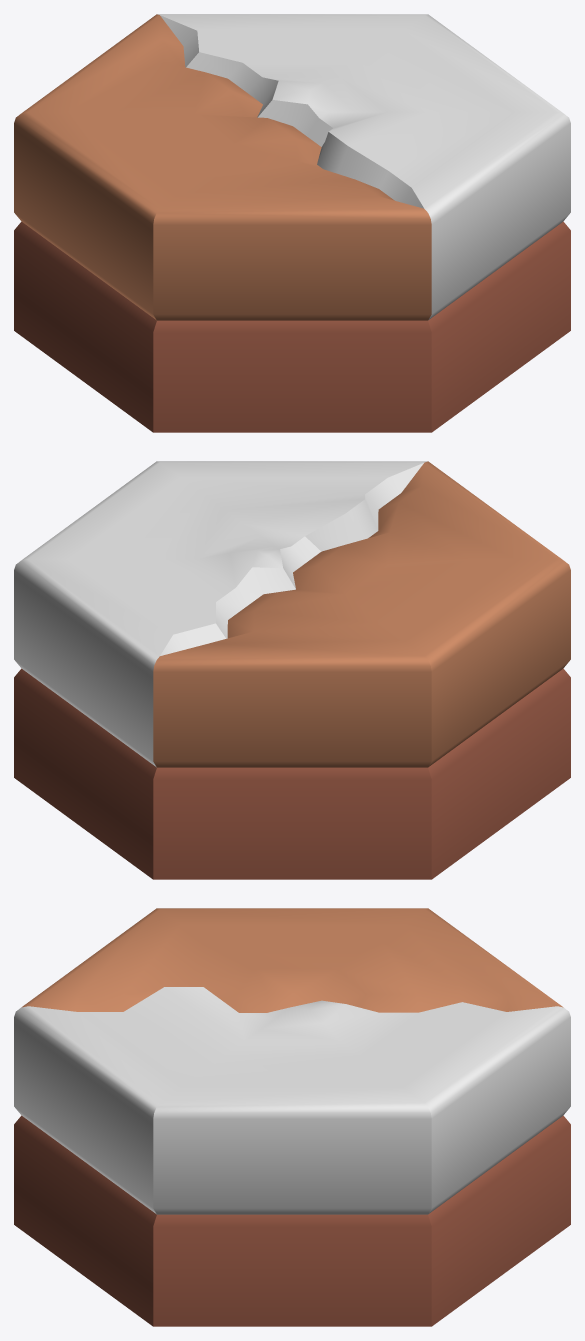
Rendered from hex_rock_transitionB.glb.
3 renders of one model, top to bottom at view 1: azimuth 30°, elevation 25°; view 2: azimuth 150°, elevation 25°; view 3: azimuth 270°, elevation 25°, orthographic.
Visible parts, largest first — view 1: hex_rock_transitionB; view 2: hex_rock_transitionB; view 3: hex_rock_transitionB.
Part boxes in pixels (box(x1,y1,x2,y2)): hex_rock_transitionB: box(14, 14, 570, 432); hex_rock_transitionB: box(14, 461, 570, 879); hex_rock_transitionB: box(14, 908, 570, 1326).
Bounding box in the file's own units: 2 × 1.07 × 2.31.
